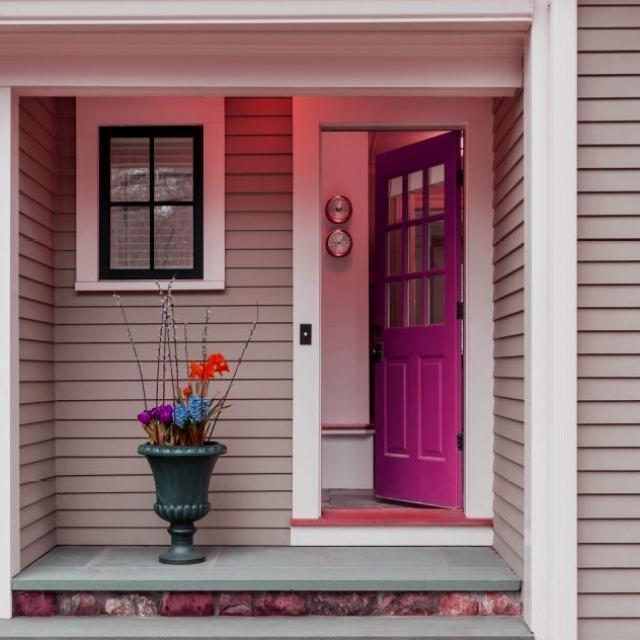door: (371, 130, 463, 509)
